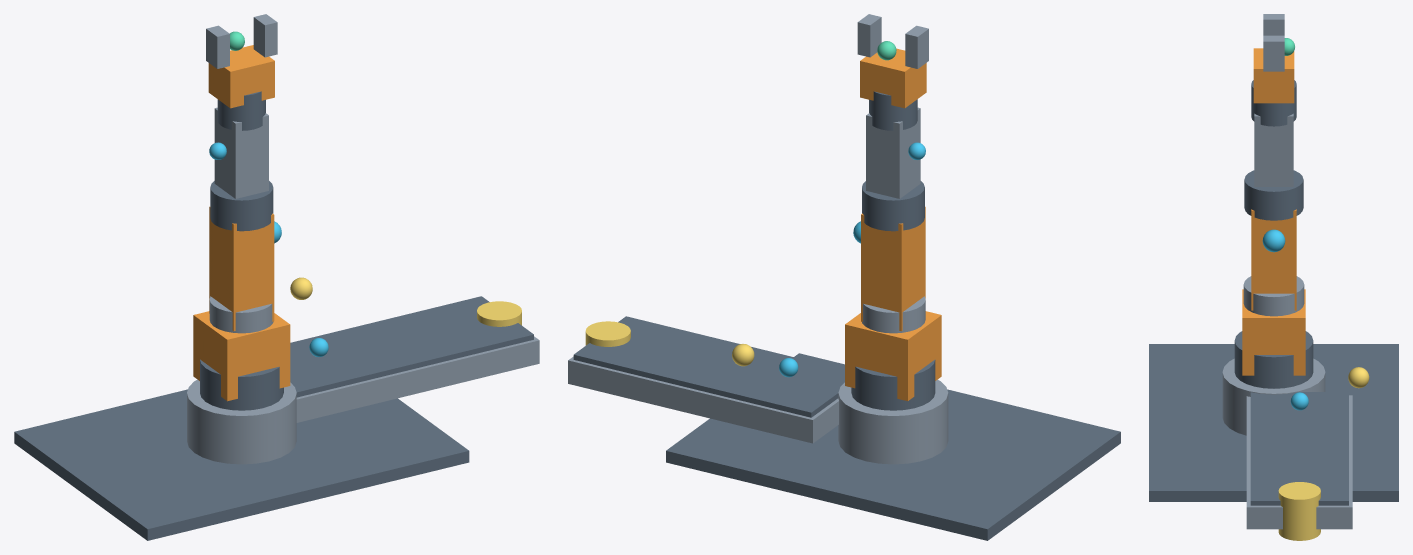
Rendered from industrial-robot-cell.glb.
The picture shows the model from 3 angles, left to right: view 1: azimuth 30°, elevation 25°; view 2: azimuth 150°, elevation 25°; view 3: azimuth 270°, elevation 25°; orthographic projection. The views are drawn at different scales.
Parts seen in each view (by area): view 1: Foundation, ConveyorBelt, BasePedestal, ConveyorBed, UpperArm, Turret, Forearm, GripperBody, YawMotor, ElbowHousing, ShoulderHousing, WristHousing (+3 smaller); view 2: Foundation, ConveyorBelt, ConveyorBed, BasePedestal, UpperArm, Turret, Forearm, GripperBody, YawMotor, ElbowHousing, ShoulderHousing, WristHousing (+3 smaller); view 3: Foundation, ConveyorBelt, Turret, UpperArm, ConveyorBed, Forearm, BasePedestal, YawMotor, ConveyorMotor, ElbowHousing, GripperBody, ShoulderHousing (+5 smaller).
Boxes of the visible parts, left/top/right/bottom form: Foundation: left=14, top=389, right=469, bottom=540; ConveyorBelt: left=290, top=296, right=533, bottom=397; BasePedestal: left=187, top=379, right=296, bottom=464; ConveyorBed: left=296, top=336, right=539, bottom=422; UpperArm: left=209, top=206, right=274, bottom=331; Turret: left=193, top=311, right=290, bottom=401; Forearm: left=214, top=107, right=268, bottom=198; GripperBody: left=208, top=45, right=274, bottom=108; YawMotor: left=200, top=359, right=283, bottom=410; ElbowHousing: left=210, top=181, right=273, bottom=231; ShoulderHousing: left=209, top=296, right=273, bottom=333; WristHousing: left=217, top=91, right=265, bottom=130; Foundation: left=666, top=353, right=1120, bottom=540; ConveyorBelt: left=573, top=316, right=844, bottom=417; ConveyorBed: left=568, top=356, right=838, bottom=443; BasePedestal: left=838, top=379, right=948, bottom=464; UpperArm: left=861, top=206, right=925, bottom=331; Turret: left=845, top=311, right=941, bottom=401; Forearm: left=866, top=107, right=920, bottom=198; GripperBody: left=860, top=48, right=926, bottom=108; YawMotor: left=851, top=359, right=935, bottom=410; ElbowHousing: left=862, top=181, right=924, bottom=231; ShoulderHousing: left=862, top=296, right=925, bottom=333; WristHousing: left=869, top=91, right=917, bottom=130; Foundation: left=1149, top=344, right=1398, bottom=501; ConveyorBelt: left=1250, top=392, right=1348, bottom=505; Turret: left=1242, top=289, right=1305, bottom=375; UpperArm: left=1251, top=209, right=1296, bottom=310; ConveyorBed: left=1246, top=395, right=1352, bottom=529; Forearm: left=1254, top=113, right=1293, bottom=186; BasePedestal: left=1222, top=358, right=1325, bottom=435; YawMotor: left=1234, top=331, right=1313, bottom=388; ConveyorMotor: left=1278, top=482, right=1320, bottom=540; ElbowHousing: left=1244, top=170, right=1303, bottom=220; GripperBody: left=1253, top=48, right=1294, bottom=103; ShoulderHousing: left=1243, top=276, right=1304, bottom=316.
Bounding box in the file's own units: 3.23 × 2.92 × 1.65.
